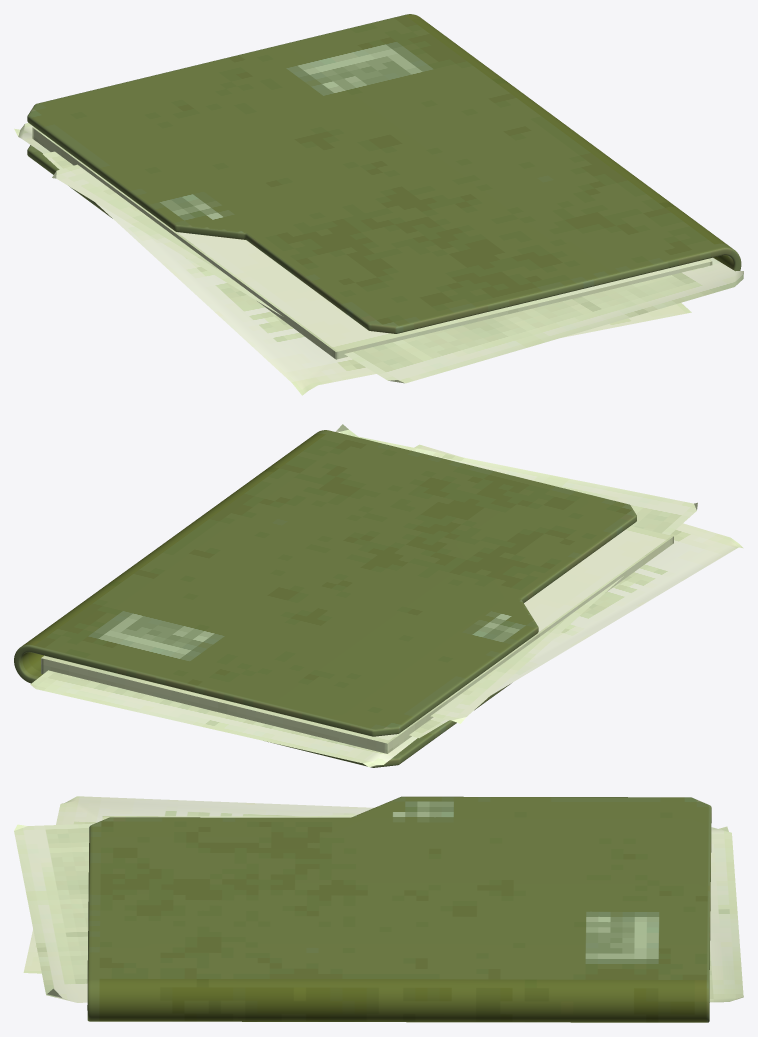
File: archivo.glb
3 renders of one model, top to bottom at view 1: azimuth 30°, elevation 25°; view 2: azimuth 150°, elevation 25°; view 3: azimuth 270°, elevation 25°, orthographic. The views are drawn at different scales.
Parts seen in each view (by area): view 1: Folder, Hojas; view 2: Folder, Hojas; view 3: Folder, Hojas.
Boxes of the visible parts, bbox=[...] form: Folder: bbox=[27, 14, 741, 333]; Hojas: bbox=[14, 123, 743, 395]; Folder: bbox=[14, 430, 636, 767]; Hojas: bbox=[30, 424, 743, 767]; Folder: bbox=[87, 796, 711, 1022]; Hojas: bbox=[14, 796, 743, 1002].
Bounding box in the file's own units: 0.4244 × 0.0364 × 0.6023.
2 materials, 2 textured.
